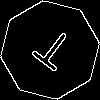T: (25, 25, 77, 80)
